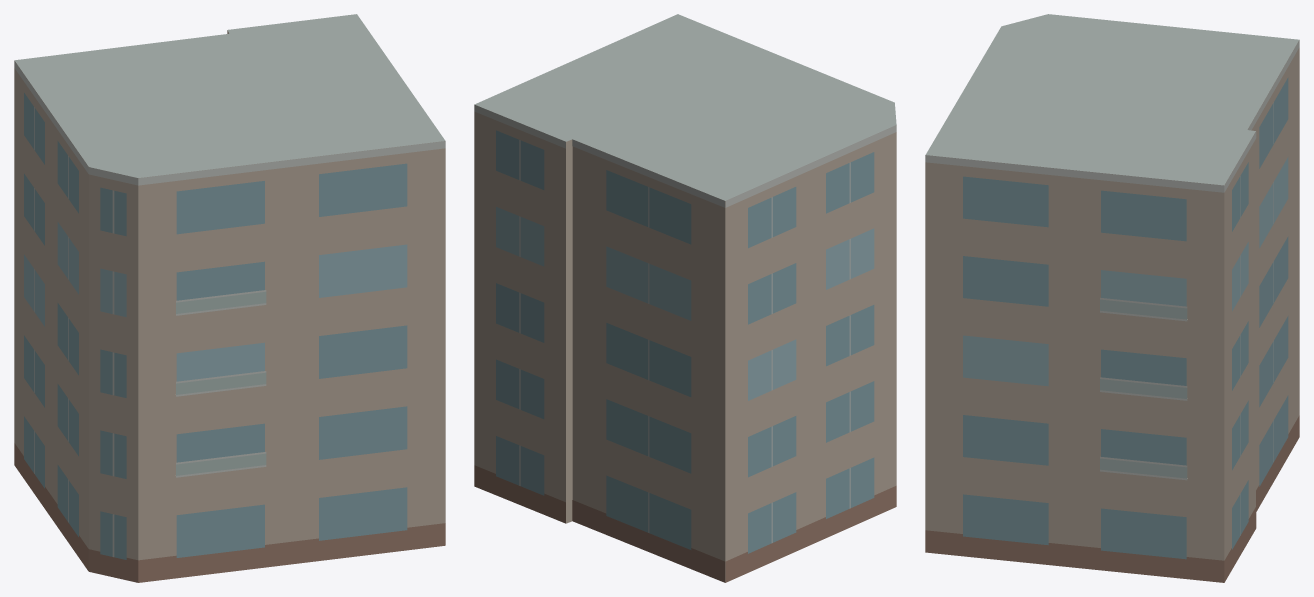
The model's file is survey-upis-33029173.glb.
3 renders of one model, left to right at view 1: azimuth 30°, elevation 25°; view 2: azimuth 150°, elevation 25°; view 3: azimuth 270°, elevation 25°, orthographic. The views are drawn at different scales.
Visible parts, largest first — view 1: survey-upis-33029173.tmp; view 2: survey-upis-33029173.tmp; view 3: survey-upis-33029173.tmp.
Part boxes in pixels (x1,y1,x2,y2): survey-upis-33029173.tmp: [14, 14, 445, 582]; survey-upis-33029173.tmp: [474, 14, 896, 582]; survey-upis-33029173.tmp: [925, 14, 1299, 582].
Bounding box in the file's own units: 12.32 × 13.3 × 11.36.
